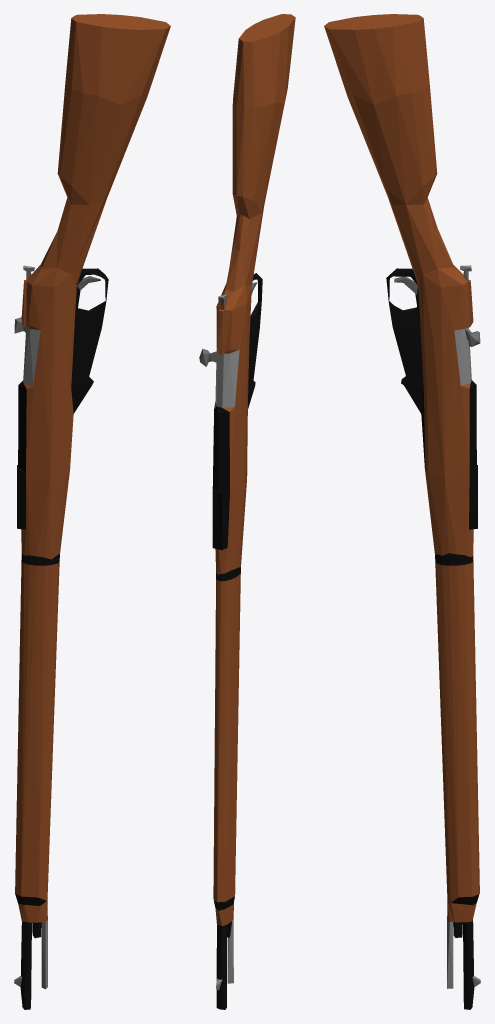
File: Mosin.fbx
The picture shows the model from 3 angles, left to right: view 1: azimuth 90°, elevation 25°; view 2: azimuth 150°, elevation 25°; view 3: azimuth 270°, elevation 25°; orthographic projection. The views are drawn at different scales.
Visible parts, largest first — view 1: Mosin.copy; view 2: Mosin.copy; view 3: Mosin.copy.
Part boxes in pixels (left/top/right/bottom): Mosin.copy: left=14, top=14, right=170, bottom=1009; Mosin.copy: left=199, top=14, right=295, bottom=1009; Mosin.copy: left=324, top=14, right=480, bottom=1009.
Bounding box in the file's own units: 18.45 × 128 × 5.32.
